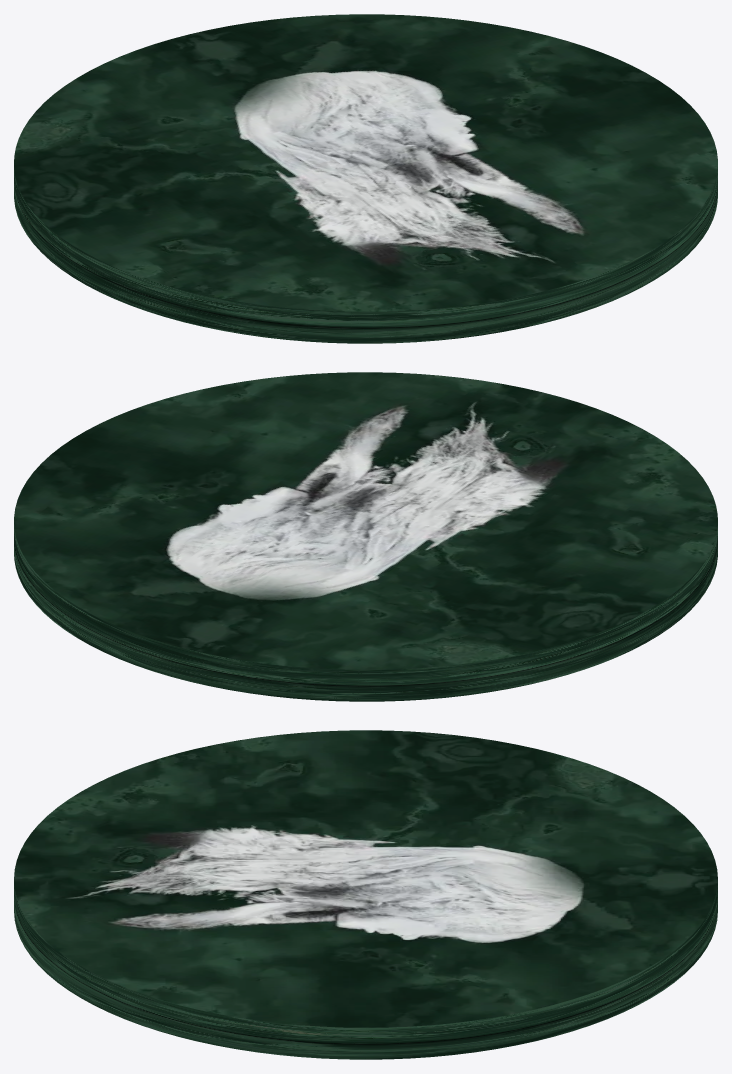
3 views of the same model, one above another, from view 1: azimuth 30°, elevation 25°; view 2: azimuth 150°, elevation 25°; view 3: azimuth 270°, elevation 25° (orthographic).
Parts seen in each view (by area): view 1: Cylinder.002; view 2: Cylinder.002; view 3: Cylinder.002.
Part boxes in pixels (<box>): Cylinder.002: <box>14,14,717,343</box>; Cylinder.002: <box>14,372,717,701</box>; Cylinder.002: <box>14,730,717,1059</box>.
Size of the model in its own units: 4 by 0.2 by 4.
Materials: 1 (1 with a texture image).
